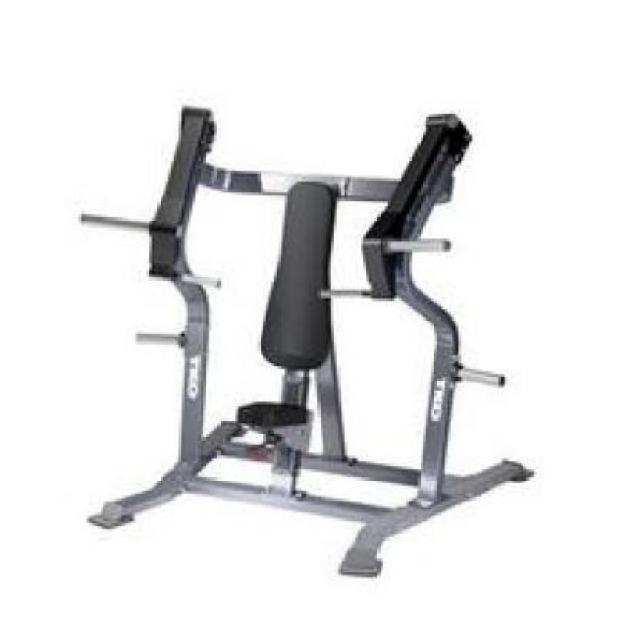shoulder press machine: (77, 105, 535, 577)
